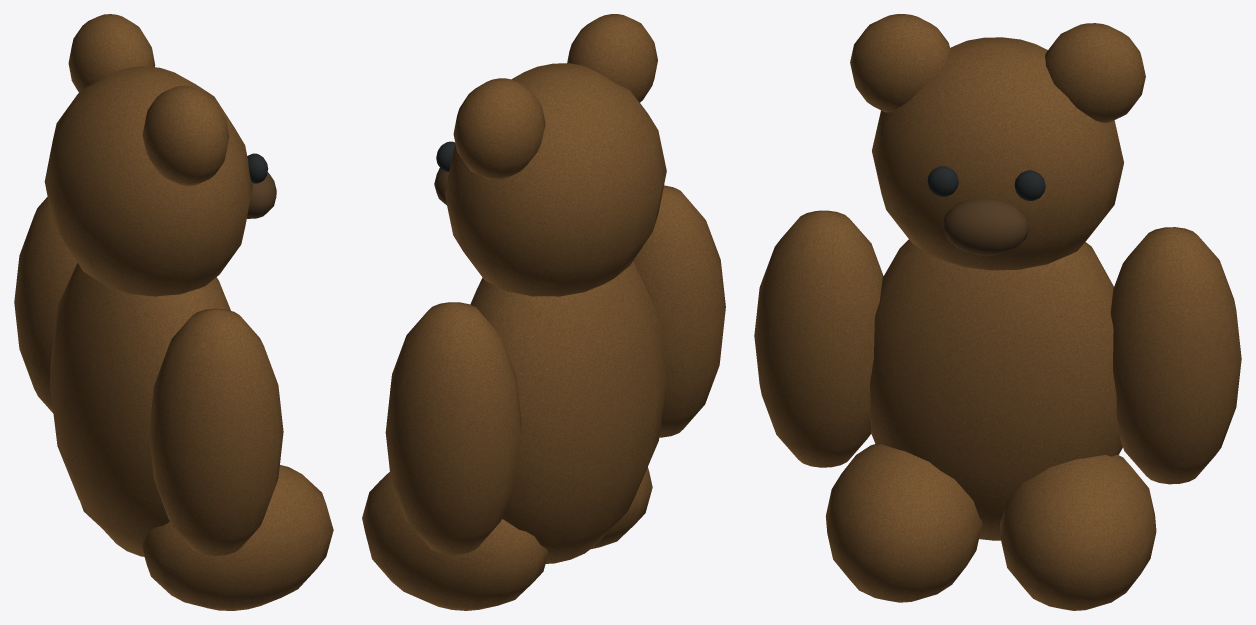
File: SM_TeddyPrize_0a958efc22.fbx
3 views of the same model, side by side, from view 1: azimuth 30°, elevation 25°; view 2: azimuth 150°, elevation 25°; view 3: azimuth 270°, elevation 25° (orthographic). The views are drawn at different scales.
Visible parts, largest first — view 1: SM_TeddyPrize_0a958efc22; view 2: SM_TeddyPrize_0a958efc22; view 3: SM_TeddyPrize_0a958efc22.
Boxes of the visible parts, x1=… form: SM_TeddyPrize_0a958efc22: x1=14, y1=14, x2=333, y2=610; SM_TeddyPrize_0a958efc22: x1=362, y1=14, x2=725, y2=610; SM_TeddyPrize_0a958efc22: x1=754, y1=14, x2=1241, y2=610.
Size of what is drawn, in the model's own units: 29.51 by 51.44 by 63.78.
Materials: 3 (1 with a texture image).
